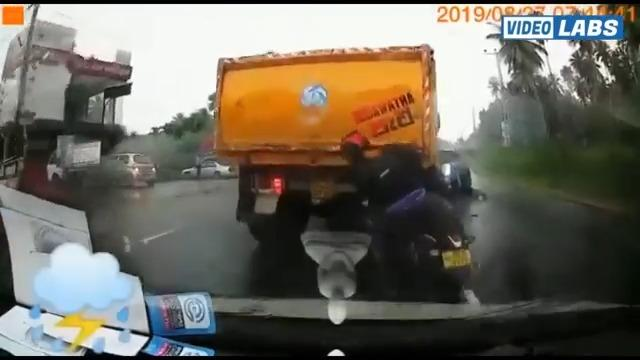accident: (209, 40, 495, 289)
